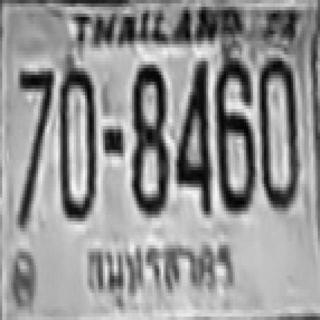N00: (257, 53, 298, 206), (59, 63, 95, 216)
N04: (175, 58, 210, 211)
N06: (215, 54, 253, 208)
N07: (16, 66, 51, 223)
N08: (130, 61, 166, 211)
P58: (81, 235, 242, 304)
